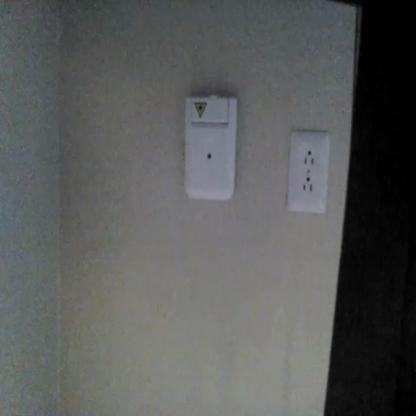OUTLET: (286, 132, 330, 212)
